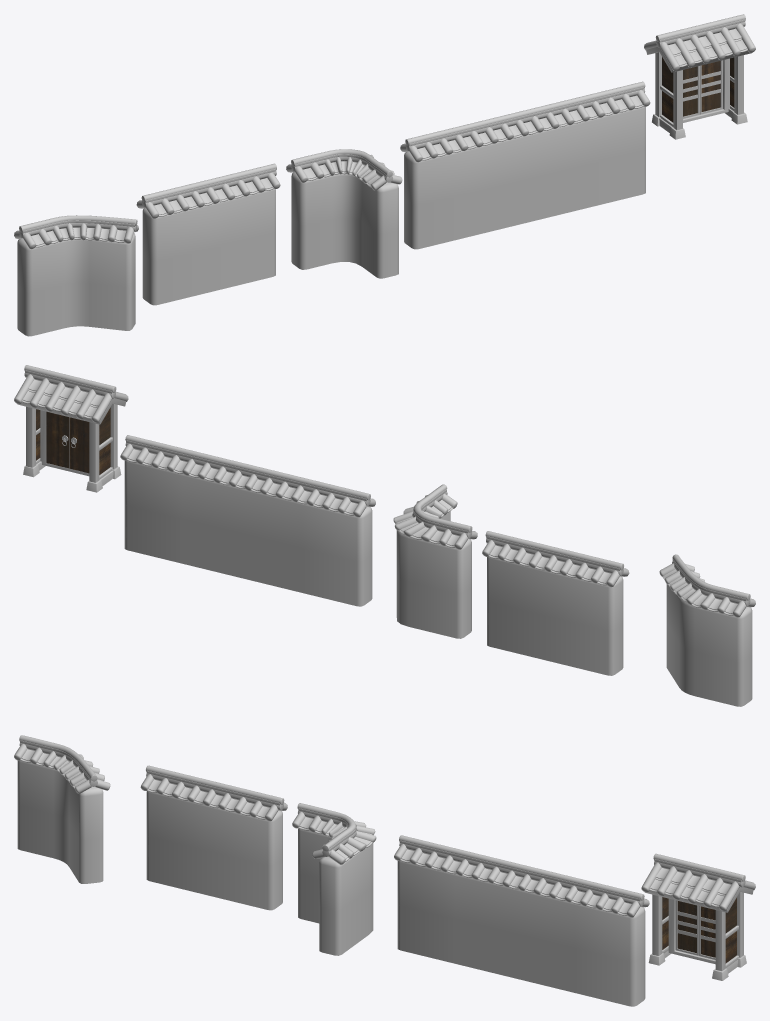
Rendered from DamGiwah.FBX.
The picture shows the model from 3 angles, top to bottom: view 1: azimuth 30°, elevation 25°; view 2: azimuth 150°, elevation 25°; view 3: azimuth 330°, elevation 25°; orthographic projection. The views are drawn at different scales.
Visible parts, largest first — view 1: DamH_L_wall_stone_cho, DamH_S_wall_stone_cho, DamH_Rs_wall_stone_cho, DamH_R_wall_stone_cho, Giwah_L, RoughwoodHighsetu_A002, Giwah_S, Giwah_Door, Giwah_Rs, Giwah_R, WoodPlanksTixjedrbw_A002, wall_stone_cho_aab; view 2: DamH_L_wall_stone_cho, DamH_S_wall_stone_cho, DamH_Rs_wall_stone_cho, DamH_R_wall_stone_cho, Giwah_L, Giwah_S, Giwah_Door, WoodPlanksTixjedrbw_A002, RoughwoodHighsetu_A002, Giwah_R, Giwah_Rs; view 3: DamH_L_wall_stone_cho, DamH_S_wall_stone_cho, DamH_Rs_wall_stone_cho, DamH_R_wall_stone_cho, Giwah_L, RoughwoodHighsetu_A002, Giwah_S, Giwah_Door, Giwah_R, Giwah_Rs, WoodPlanksTixjedrbw_A002, wall_stone_cho_aab.
Boxes of the visible parts, <box> form: DamH_L_wall_stone_cho: <box>404,106,645,249</box>; DamH_S_wall_stone_cho: <box>142,189,275,305</box>; DamH_Rs_wall_stone_cho: <box>17,233,135,336</box>; DamH_R_wall_stone_cho: <box>291,172,398,278</box>; Giwah_L: <box>400,81,650,162</box>; RoughwoodHighsetu_A002: <box>646,46,752,129</box>; Giwah_S: <box>136,163,280,218</box>; Giwah_Door: <box>644,14,755,71</box>; Giwah_Rs: <box>14,215,138,249</box>; Giwah_R: <box>286,149,402,190</box>; WoodPlanksTixjedrbw_A002: <box>662,57,734,122</box>; wall_stone_cho_aab: <box>652,108,747,139</box>; DamH_L_wall_stone_cho: <box>124,460,372,606</box>; DamH_S_wall_stone_cho: <box>487,556,623,675</box>; DamH_Rs_wall_stone_cho: <box>666,584,752,706</box>; DamH_R_wall_stone_cho: <box>396,511,471,638</box>; Giwah_L: <box>120,435,375,517</box>; Giwah_S: <box>482,531,629,587</box>; Giwah_Door: <box>14,365,128,422</box>; WoodPlanksTixjedrbw_A002: <box>36,407,110,474</box>; RoughwoodHighsetu_A002: <box>17,398,126,482</box>; Giwah_R: <box>393,484,477,549</box>; Giwah_Rs: <box>659,554,755,617</box>; DamH_L_wall_stone_cho: <box>397,860,645,1006</box>; DamH_S_wall_stone_cho: <box>146,791,282,910</box>; DamH_Rs_wall_stone_cho: <box>17,760,103,883</box>; DamH_R_wall_stone_cho: <box>298,828,373,955</box>; Giwah_L: <box>394,835,649,917</box>; RoughwoodHighsetu_A002: <box>644,887,753,970</box>; Giwah_S: <box>140,765,287,821</box>; Giwah_Door: <box>641,853,755,911</box>; Giwah_R: <box>292,803,376,864</box>; Giwah_Rs: <box>14,735,110,793</box>; WoodPlanksTixjedrbw_A002: <box>662,897,736,963</box>; wall_stone_cho_aab: <box>648,950,746,980</box>.
Size of the model in its own units: 2772 by 557 by 303.
